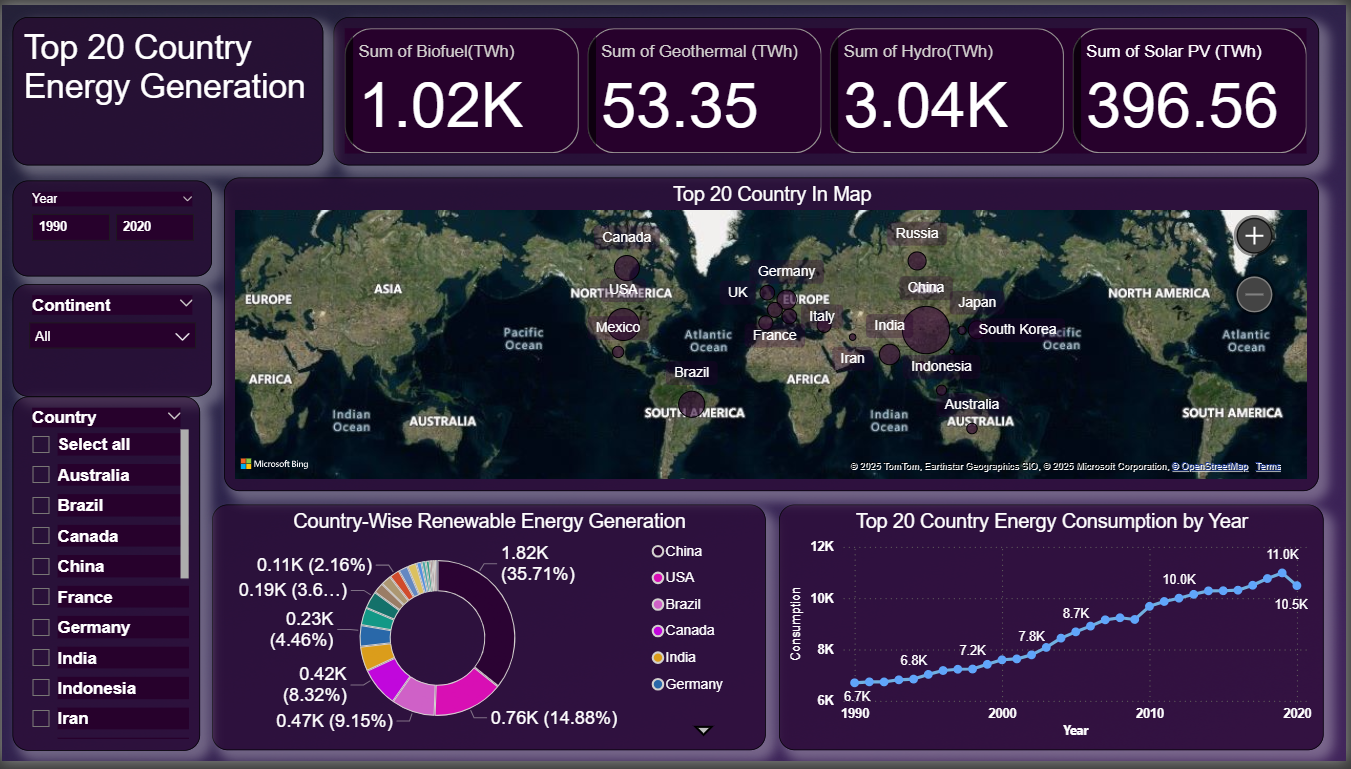

What the dashboard file says about the page in this screenshot:
{"tool":"powerbi","page":{"name":"Top 20 Country Energy Generation","canvas":[1280,720],"ordinal":4},"visuals":[{"type":"cardVisual","fields":{"Data":["Sum(top20CountriesPowerGeneration.Biofuel(TWh))","Sum(top20CountriesPowerGeneration.Geothermal (TWh))","Sum(top20CountriesPowerGeneration.Hydro(TWh))","Sum(top20CountriesPowerGeneration.Solar PV (TWh))"]},"box":[315.7,11.4,938.6,141.4],"z":0},{"type":"textbox","box":[10,11.4,295.7,141.4],"z":1000},{"type":"donutChart","title":"Country-Wise Renewable Energy Generation","fields":{"Category":["top20CountriesPowerGeneration.Country"],"Y":["Sum(top20CountriesPowerGeneration.Total (TWh))"]},"box":[200,475.7,527.1,234.3],"z":2000},{"type":"lineChart","title":"Top 20 Country Energy Consumption by Year","fields":{"Category":["Country_Table.Year"],"Y":["Country_Table.Top20_Countries_Total_Consumption"]},"box":[740,475.7,518.6,234.3],"z":3000},{"type":"slicer","fields":{"Values":["Continent_Table.Year"]},"box":[9.5,167,190.6,99.2],"z":4000},{"type":"slicer","fields":{"Values":["Continent_Table.Continent"]},"box":[9.5,280.4,190.6,80.3],"z":5000},{"type":"map","title":"Top 20 Country In Map","fields":{"Category":["top20CountriesPowerGeneration.Country"],"Size":["Sum(top20CountriesPowerGeneration.Total (TWh))","select"]},"box":[211.4,164.3,1042.9,298.6],"z":6000},{"type":"slicer","fields":{"Values":["top20CountriesPowerGeneration.Country"]},"box":[10,372.9,178.6,337.1],"z":7000}]}

Visuals, with their boxes in screenshot pixels (x1, y1, x2, y2), scaled from the page's 1280x720 canvas onto the 1351x769 screenshot:
cardVisual - Sum(top20CountriesPowerGeneration.Biofuel(TWh)) x Sum(top20CountriesPowerGeneration.Geothermal (TWh)): <box>333,12,1324,163</box>
textbox: <box>11,12,323,163</box>
"Country-Wise Renewable Energy Generation" donutChart: <box>211,508,767,758</box>
"Top 20 Country Energy Consumption by Year" lineChart: <box>781,508,1328,758</box>
slicer - Continent_Table.Year: <box>10,178,211,284</box>
slicer - Continent_Table.Continent: <box>10,299,211,385</box>
"Top 20 Country In Map" map: <box>223,175,1324,494</box>
slicer - top20CountriesPowerGeneration.Country: <box>11,398,199,758</box>
